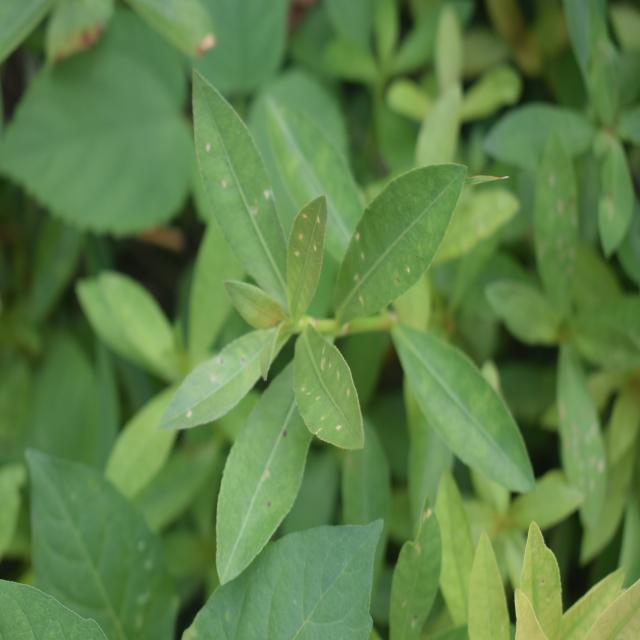Alligatorweed: (126, 57, 430, 495)
